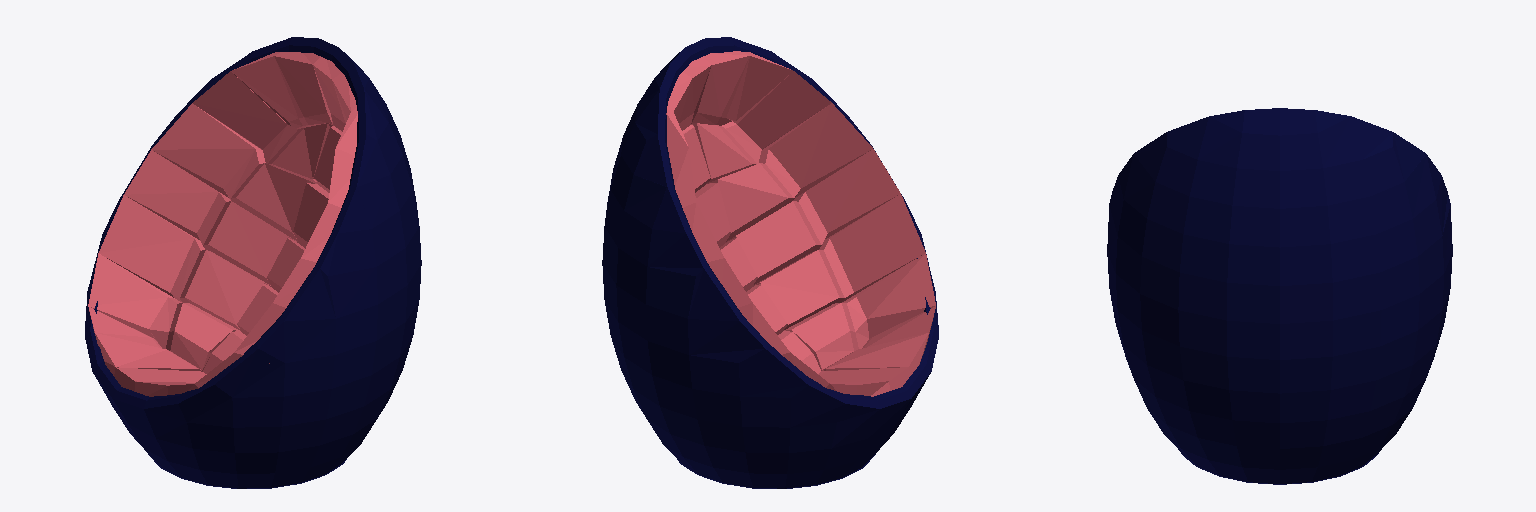
File: sofa.obj
The picture shows the model from 3 angles: view 1: azimuth 30°, elevation 25°; view 2: azimuth 150°, elevation 25°; view 3: azimuth 270°, elevation 25°; orthographic projection.
Visible parts, largest first — view 1: sofa cushion, sofa sofa; view 2: sofa cushion, sofa sofa; view 3: sofa sofa.
Boxes of the visible parts, <box> form: sofa cushion: <box>88,52,357,396</box>; sofa sofa: <box>85,37,421,488</box>; sofa cushion: <box>666,51,935,396</box>; sofa sofa: <box>602,37,938,488</box>; sofa sofa: <box>1107,108,1452,484</box>.
Size of the model in its own units: 16.99 by 21.32 by 17.73.